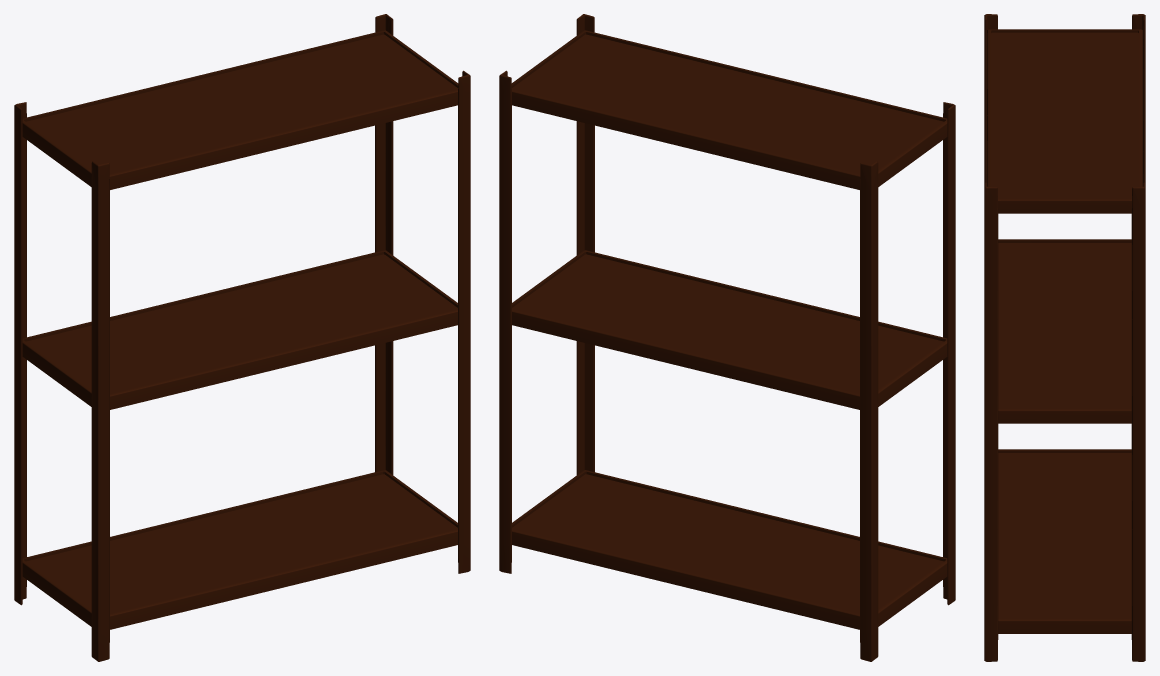
File: metal rack 1.fbx
The picture shows the model from 3 angles, left to right: view 1: azimuth 30°, elevation 25°; view 2: azimuth 150°, elevation 25°; view 3: azimuth 270°, elevation 25°; orthographic projection. The views are drawn at different scales.
Parts seen in each view (by area): view 1: FMB_Rack_01_1; view 2: FMB_Rack_01_1; view 3: FMB_Rack_01_1.
Part boxes in pixels (box(x1,y1,x2,y2)): FMB_Rack_01_1: box(14, 14, 470, 661); FMB_Rack_01_1: box(499, 14, 955, 661); FMB_Rack_01_1: box(984, 14, 1145, 661).
Bounding box in the file's own units: 203 × 79.36 × 258.
